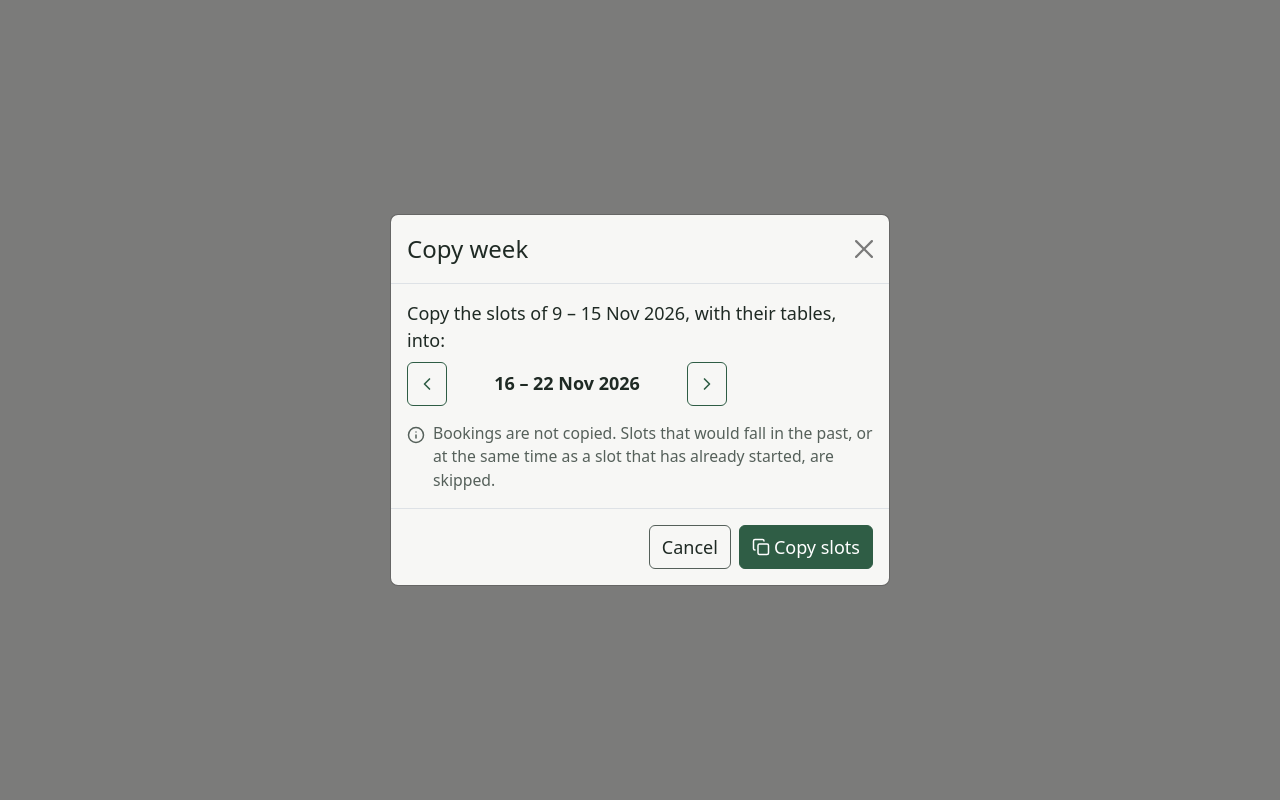
Test: CopyWeekDialog › skips the shown week in both directions, and stops at the current week
Expected: the text "16 – 22 Nov 2026" is shown, [494, 371, 640, 395]
Click the button named "Previous week". click: click(427, 384)
box: [407, 362, 447, 406]
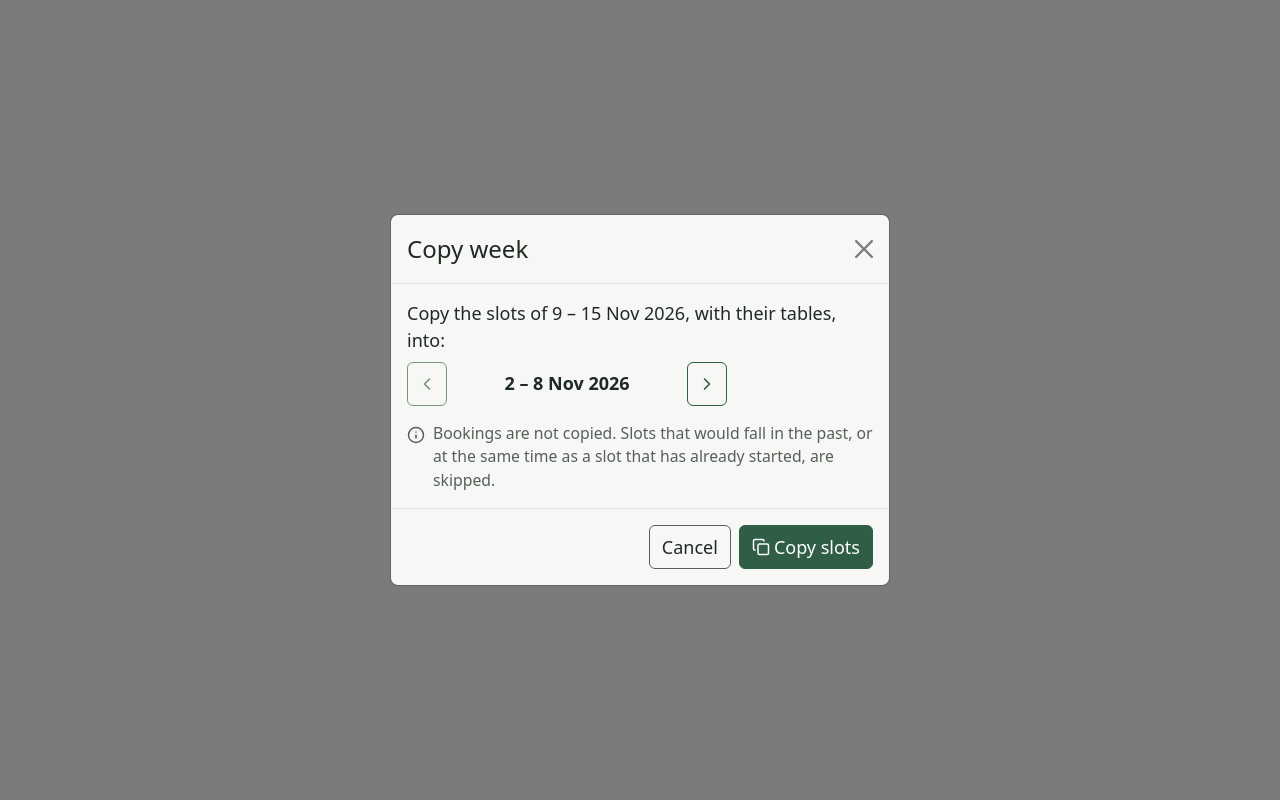
Now the text "2 – 8 Nov 2026" is shown, box [504, 371, 630, 395]
Click the button named "Next week". click: click(707, 384)
box: [687, 362, 727, 406]
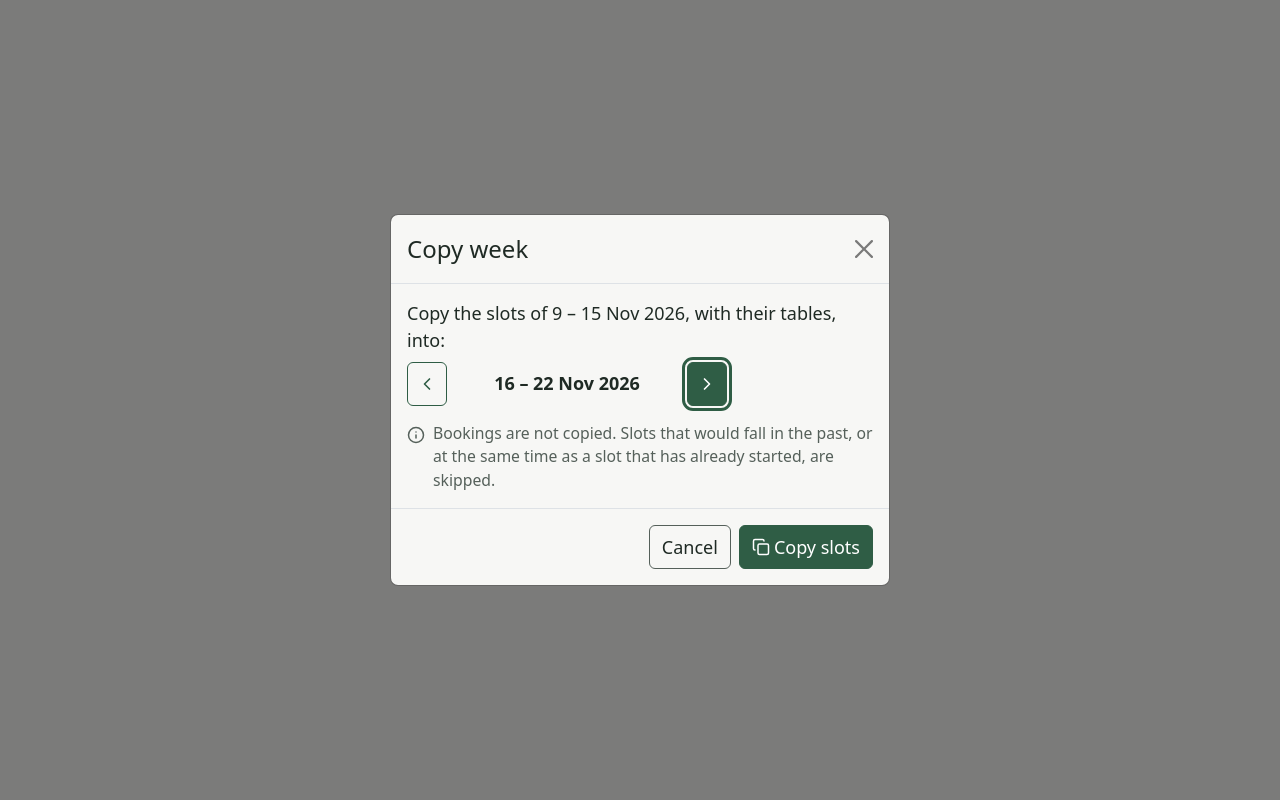
Now the text "16 – 22 Nov 2026" is shown, box [494, 371, 640, 395]
